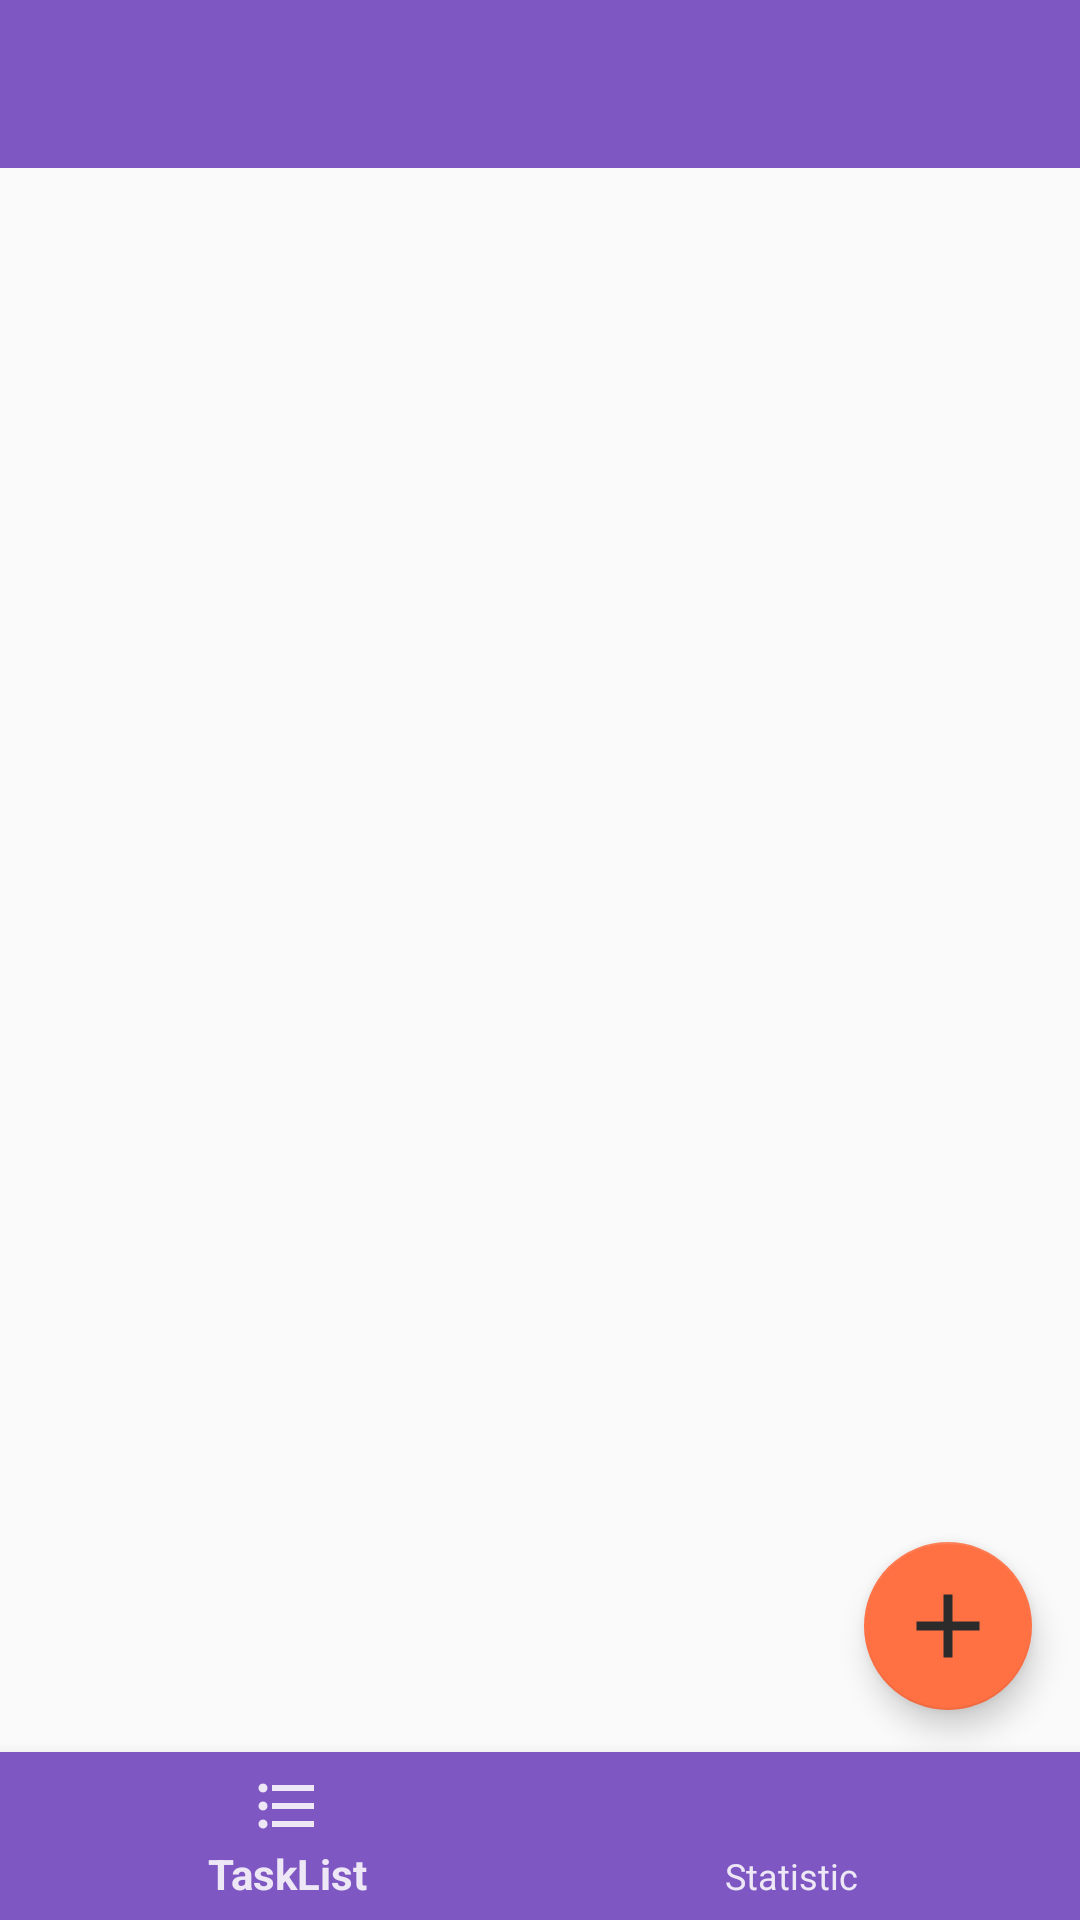

Point at icon controls on the screen. Image size 1080 × 1920, points as point (x, y).
add: point (948, 1626)
